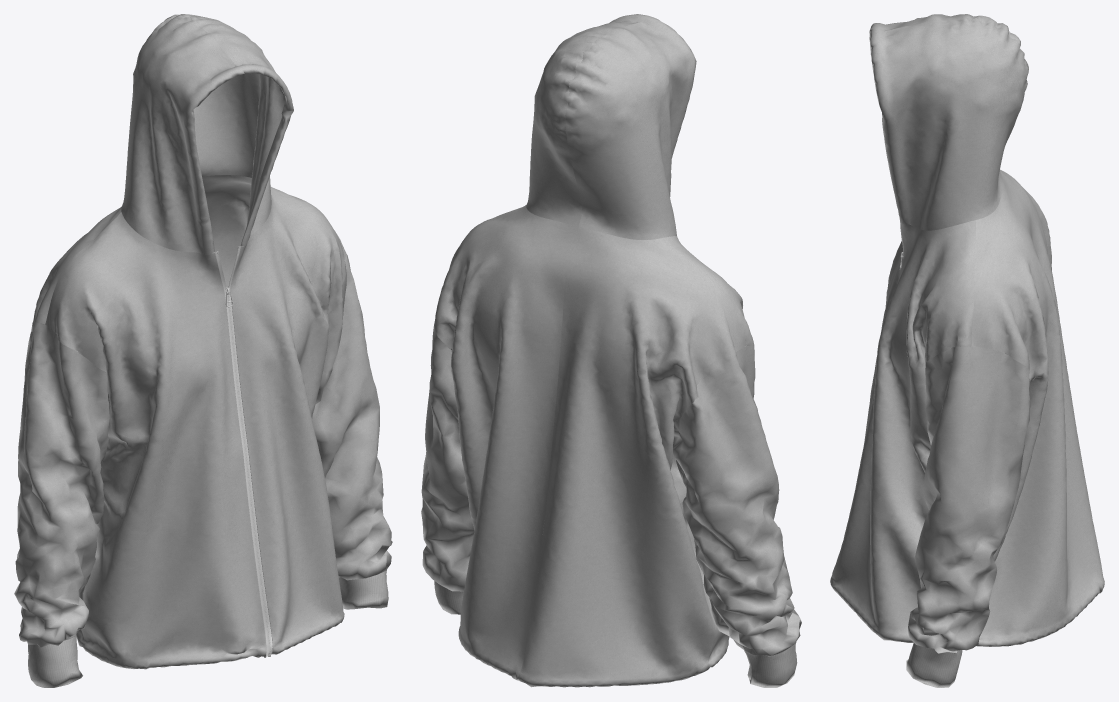
File: hoodie.lod1.glb
3 renders of one model, left to right at view 1: azimuth 30°, elevation 25°; view 2: azimuth 150°, elevation 25°; view 3: azimuth 270°, elevation 25°, orthographic. The views are drawn at different scales.
Parts seen in each view (by area): view 1: Cloth; view 2: Cloth; view 3: Cloth.
Boxes of the visible parts, left/top/right/bottom form: Cloth: left=14, top=14, right=392, bottom=687; Cloth: left=421, top=14, right=801, bottom=687; Cloth: left=830, top=14, right=1104, bottom=687.
Bounding box in the file's own units: 0.6308 × 1.01 × 0.4239.
Materials: 10 (10 with a texture image).
